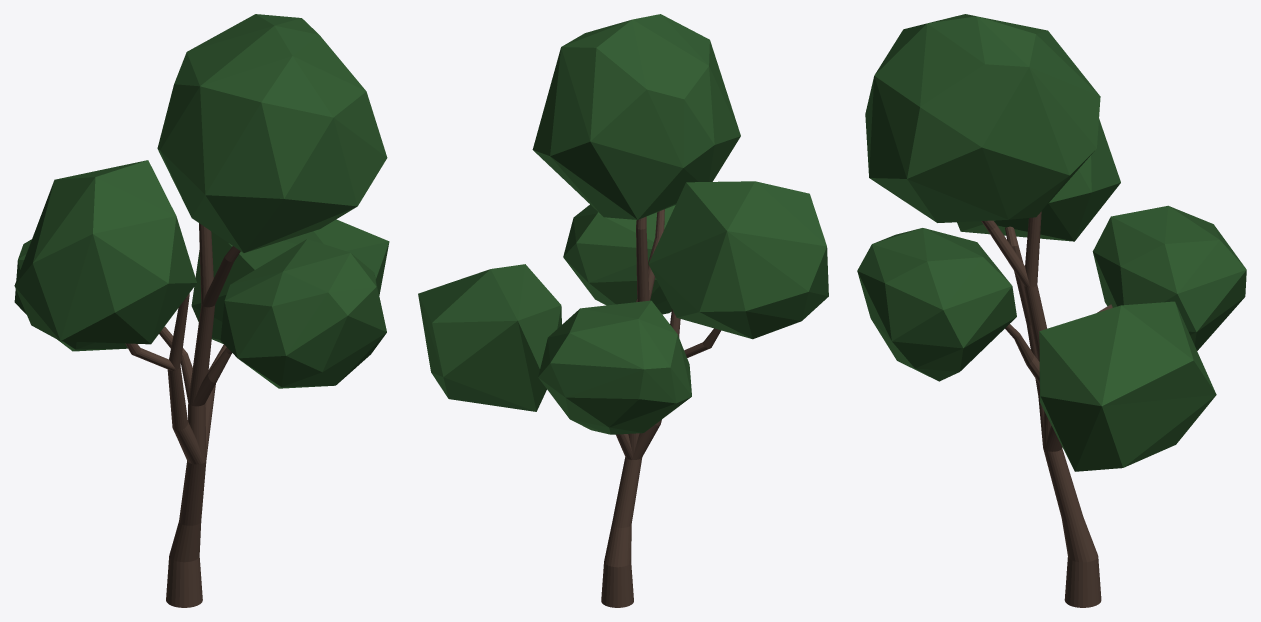
File: Tree4.fbx
The picture shows the model from 3 angles, left to right: view 1: azimuth 30°, elevation 25°; view 2: azimuth 150°, elevation 25°; view 3: azimuth 270°, elevation 25°; orthographic projection. The views are drawn at different scales.
Visible parts, largest first — view 1: Leaves, Trunk; view 2: Leaves, Trunk; view 3: Leaves, Trunk.
Boxes of the visible parts, box(x1,y1,x2,y2) form: Leaves: box(14, 14, 389, 388); Trunk: box(125, 223, 240, 607); Leaves: box(418, 14, 828, 434); Trunk: box(601, 209, 721, 607); Leaves: box(857, 14, 1246, 471); Trunk: box(981, 211, 1112, 607).
Bounding box in the file's own units: 105 × 149 × 87.59.
